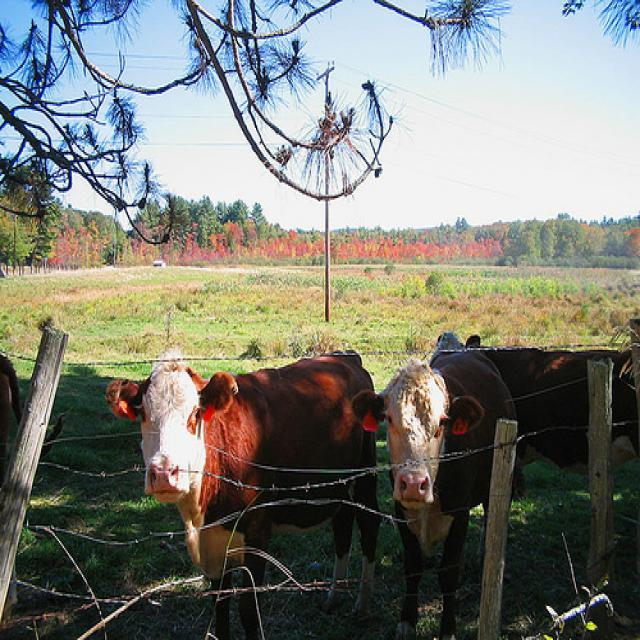cow: (104, 348, 380, 638), (382, 333, 514, 638), (466, 331, 637, 468)
